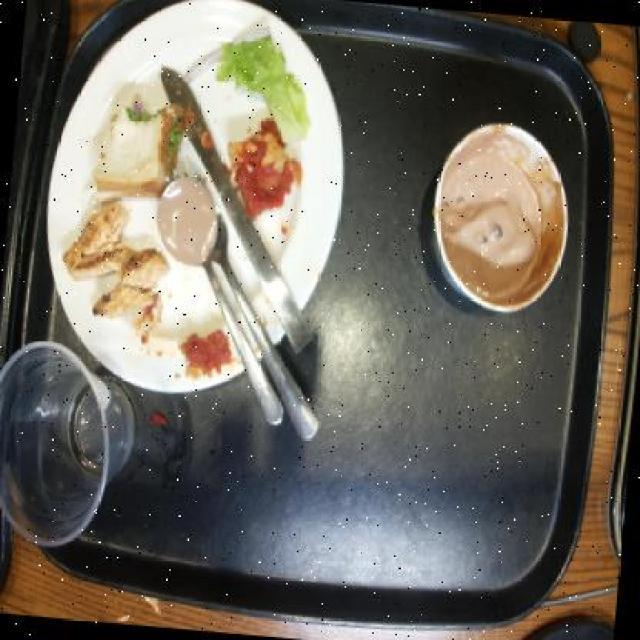Anorganik: (26, 0, 362, 409), (156, 64, 327, 440)
Organik: (52, 181, 186, 352)
